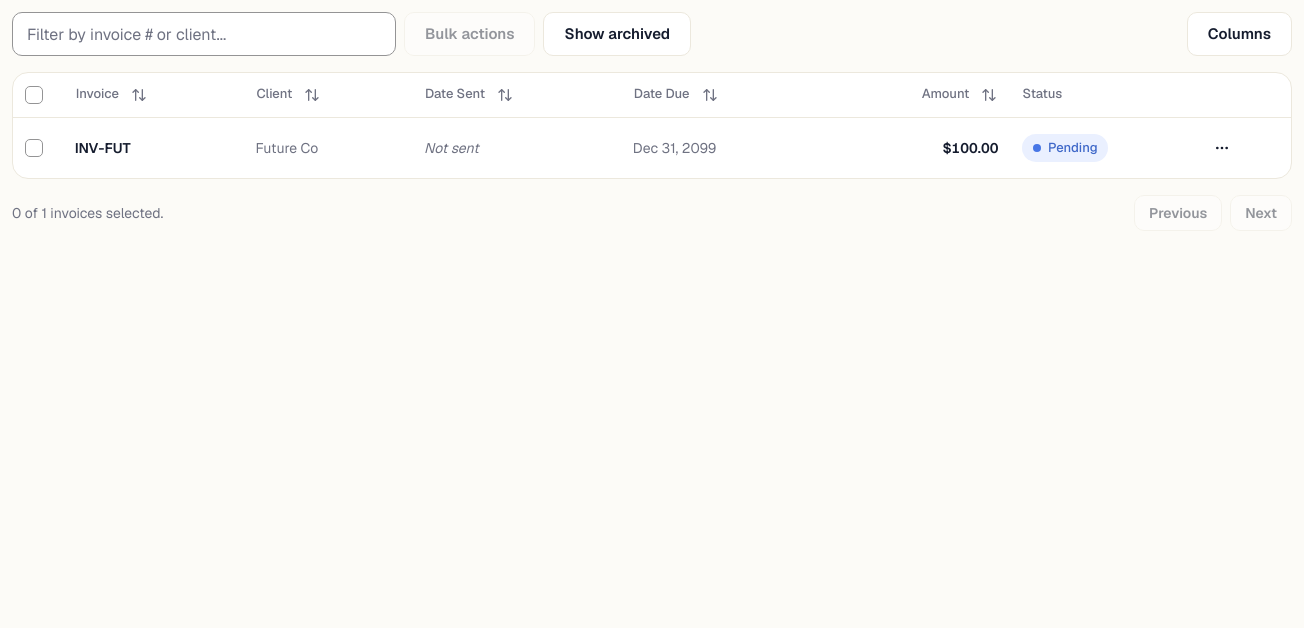
InvoiceDataTable — overdue/pending row dropdown (cases #2, #3, #4) › case #2: pending + future due date → hides 'Mark as overdue'
The width and height of the screenshot is (1304, 628).
Step 1. Click the button named "open menu" → click(1222, 148), box [1204,130,1240,166]
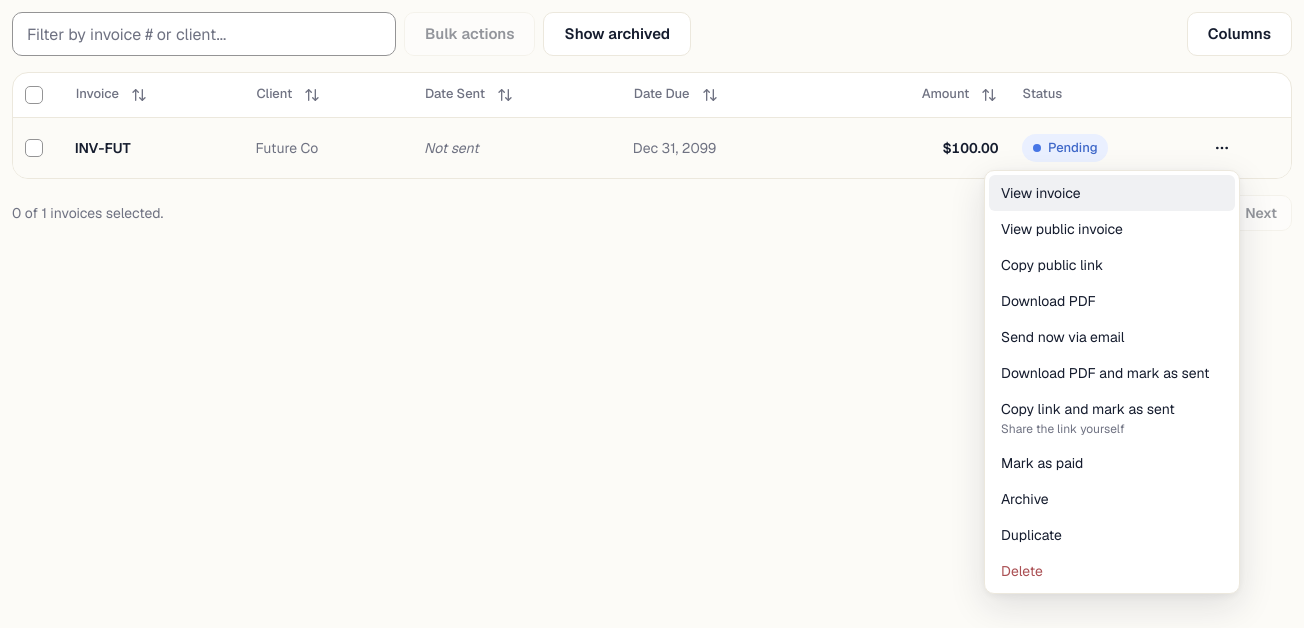
Expected: the menu item "View public invoice" is shown, [1001,220,1123,238]
